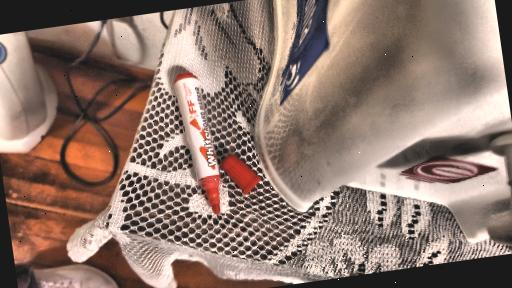marcador rojo: (174, 72, 220, 214)
